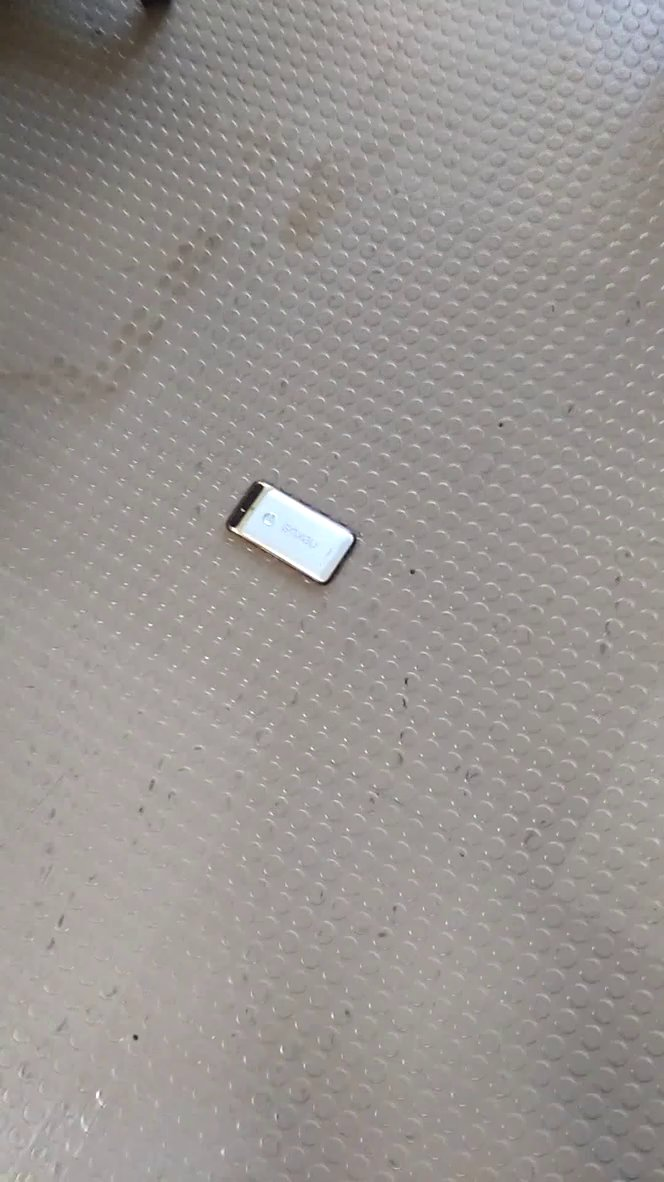phone: (218, 476, 370, 596)
